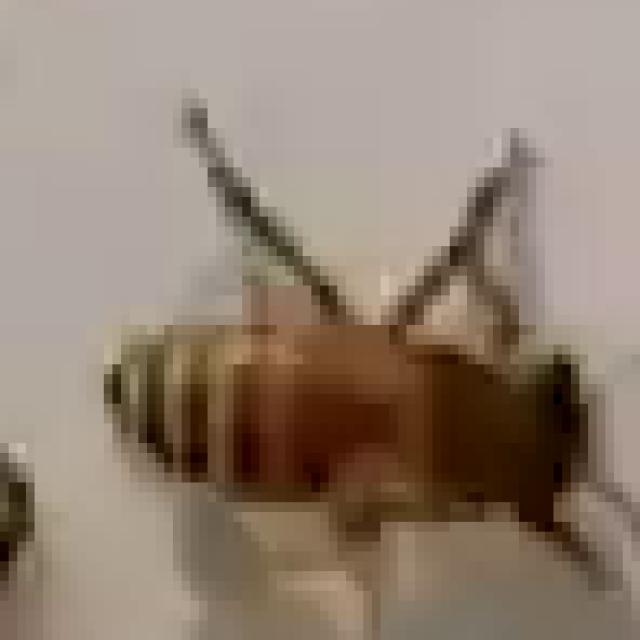honeybee: (91, 104, 604, 589)
